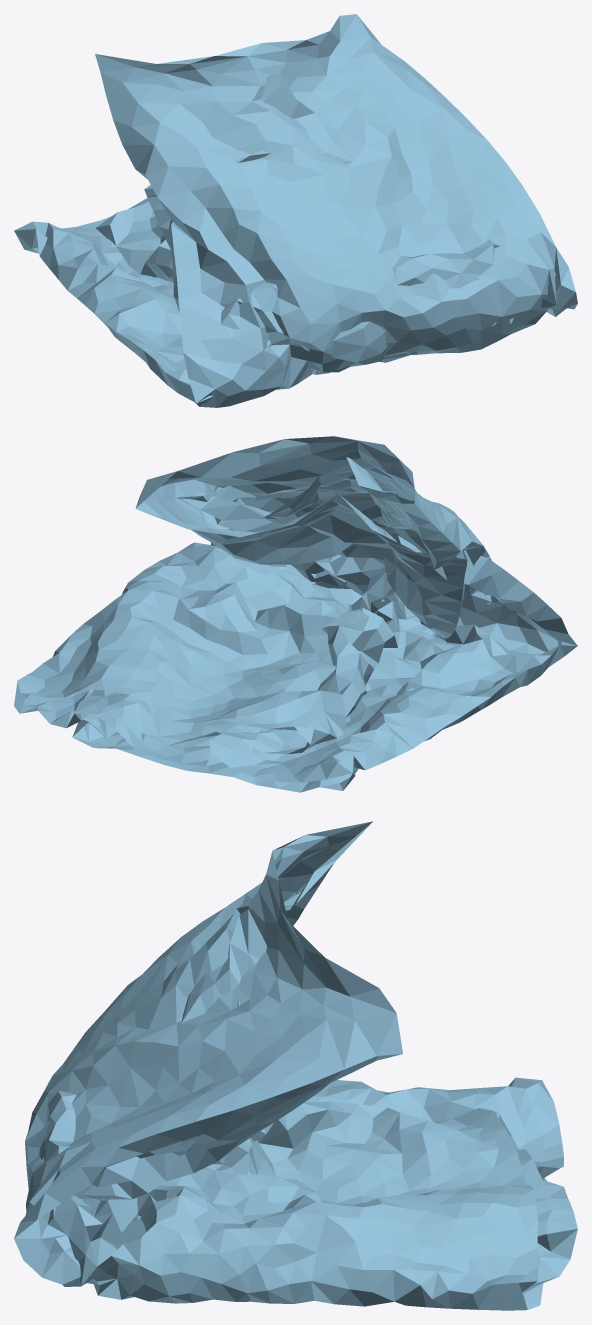
File: frame_15.glb
3 renders of one model, top to bottom at view 1: azimuth 30°, elevation 25°; view 2: azimuth 150°, elevation 25°; view 3: azimuth 270°, elevation 25°, orthographic. The views are drawn at different scales.
Parts seen in each view (by area): view 1: frame_15.obj; view 2: frame_15.obj; view 3: frame_15.obj.
Part boxes in pixels (box(x1,y1,x2,y2)): frame_15.obj: box(14, 14, 577, 407); frame_15.obj: box(14, 436, 577, 792); frame_15.obj: box(14, 821, 577, 1310).
Bounding box in the file's own units: 0.9813 × 0.6549 × 1.05.
